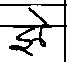e_matra: (28, 6, 50, 24)
